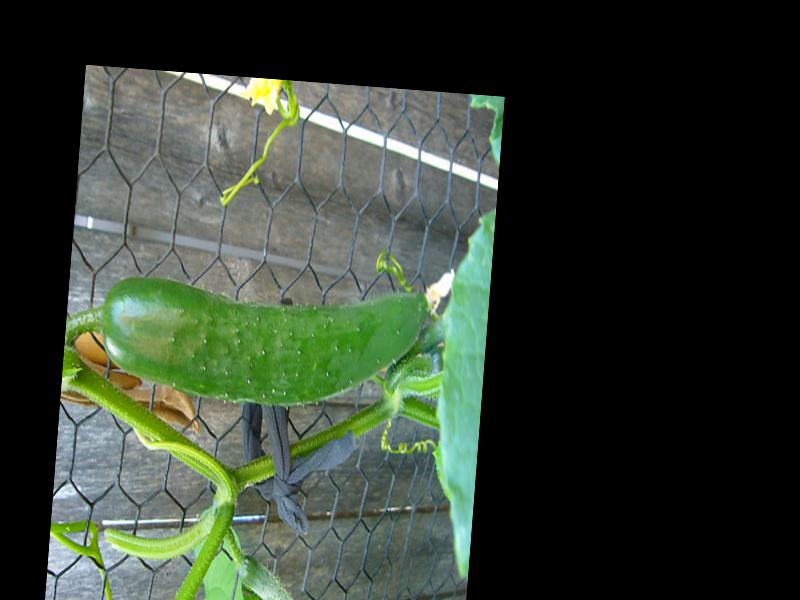Cucumber: (96, 267, 426, 418)
